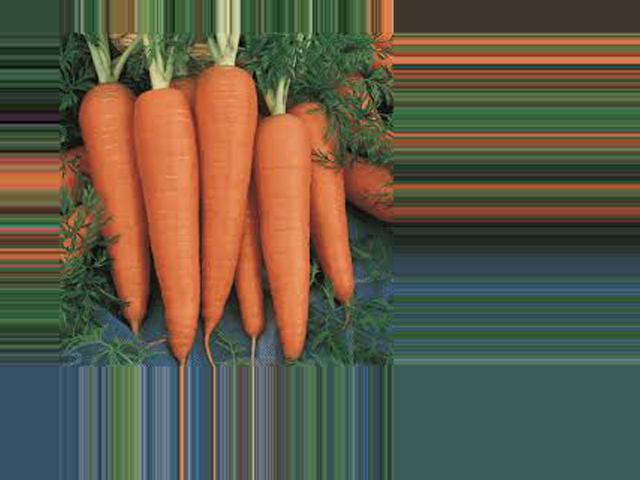carrot: (248, 100, 326, 350)
